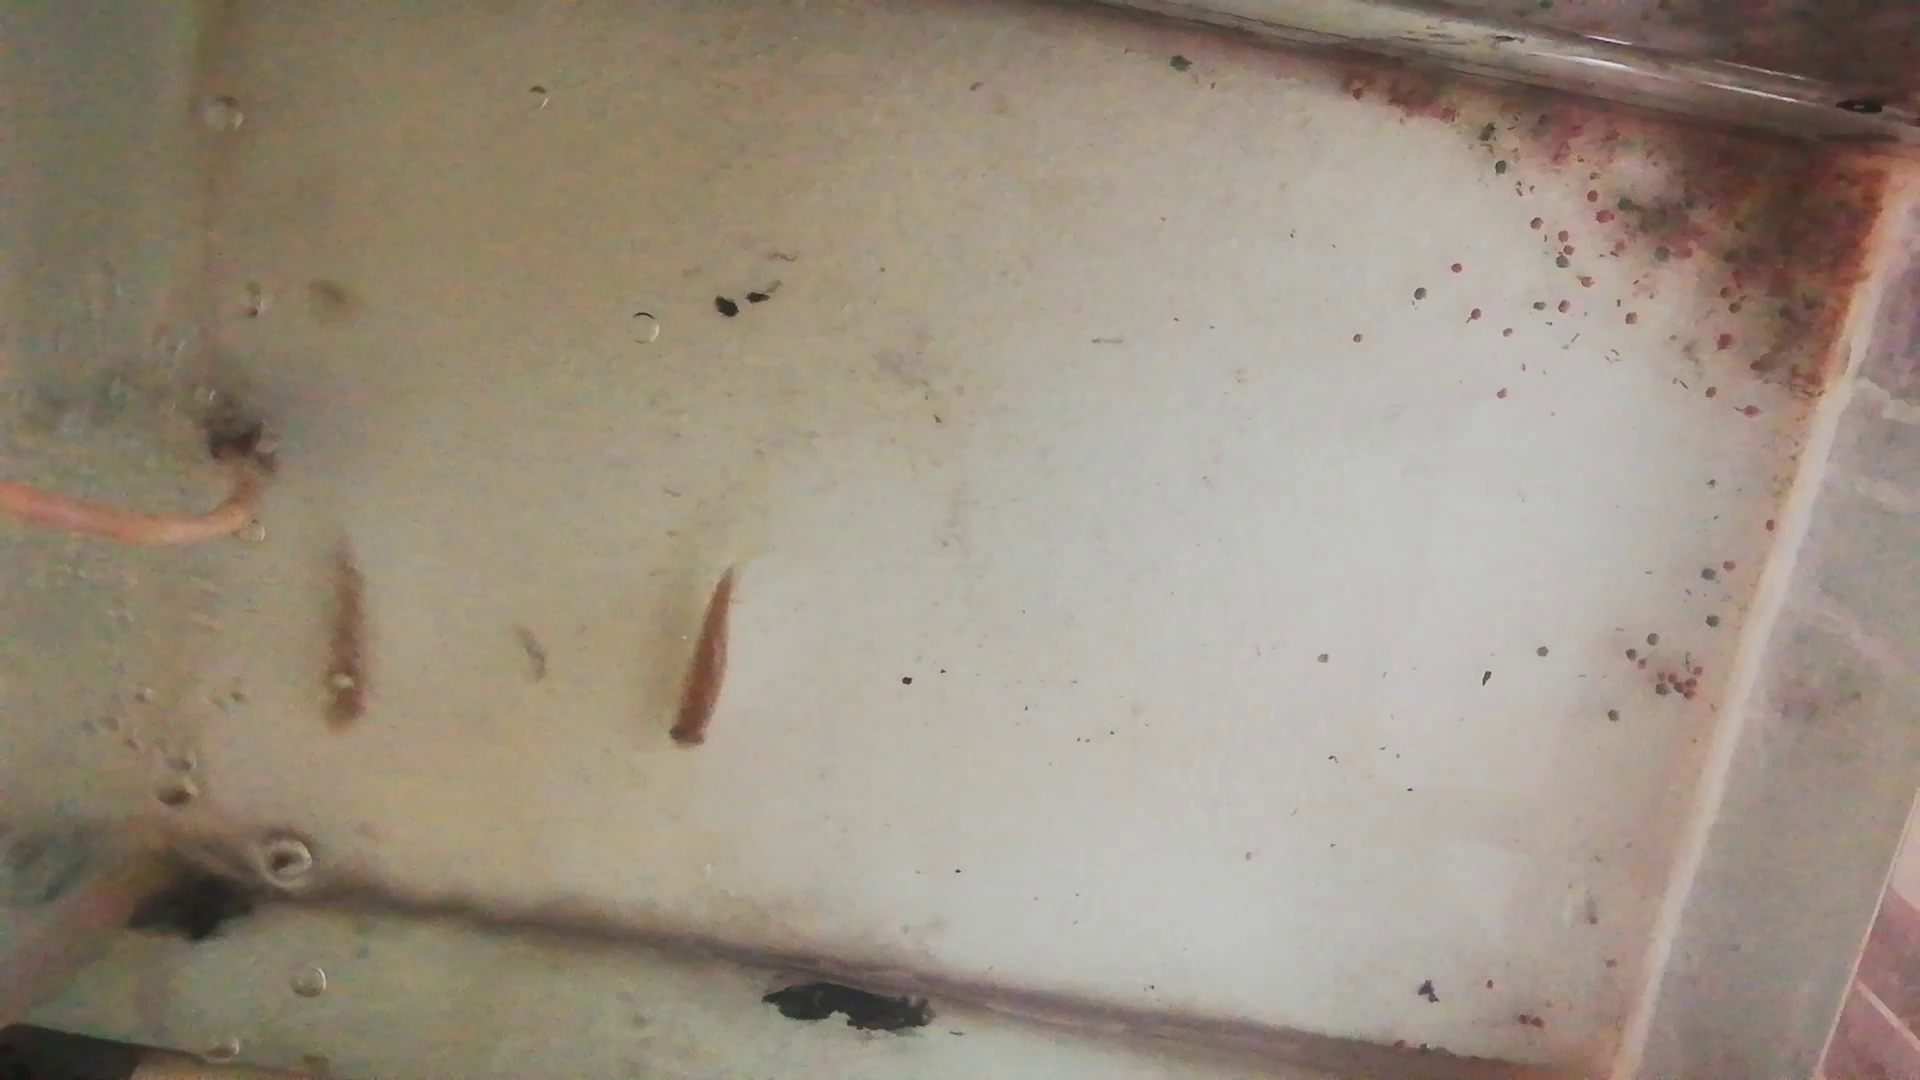fish: (665, 571, 738, 760), (316, 535, 375, 738)
